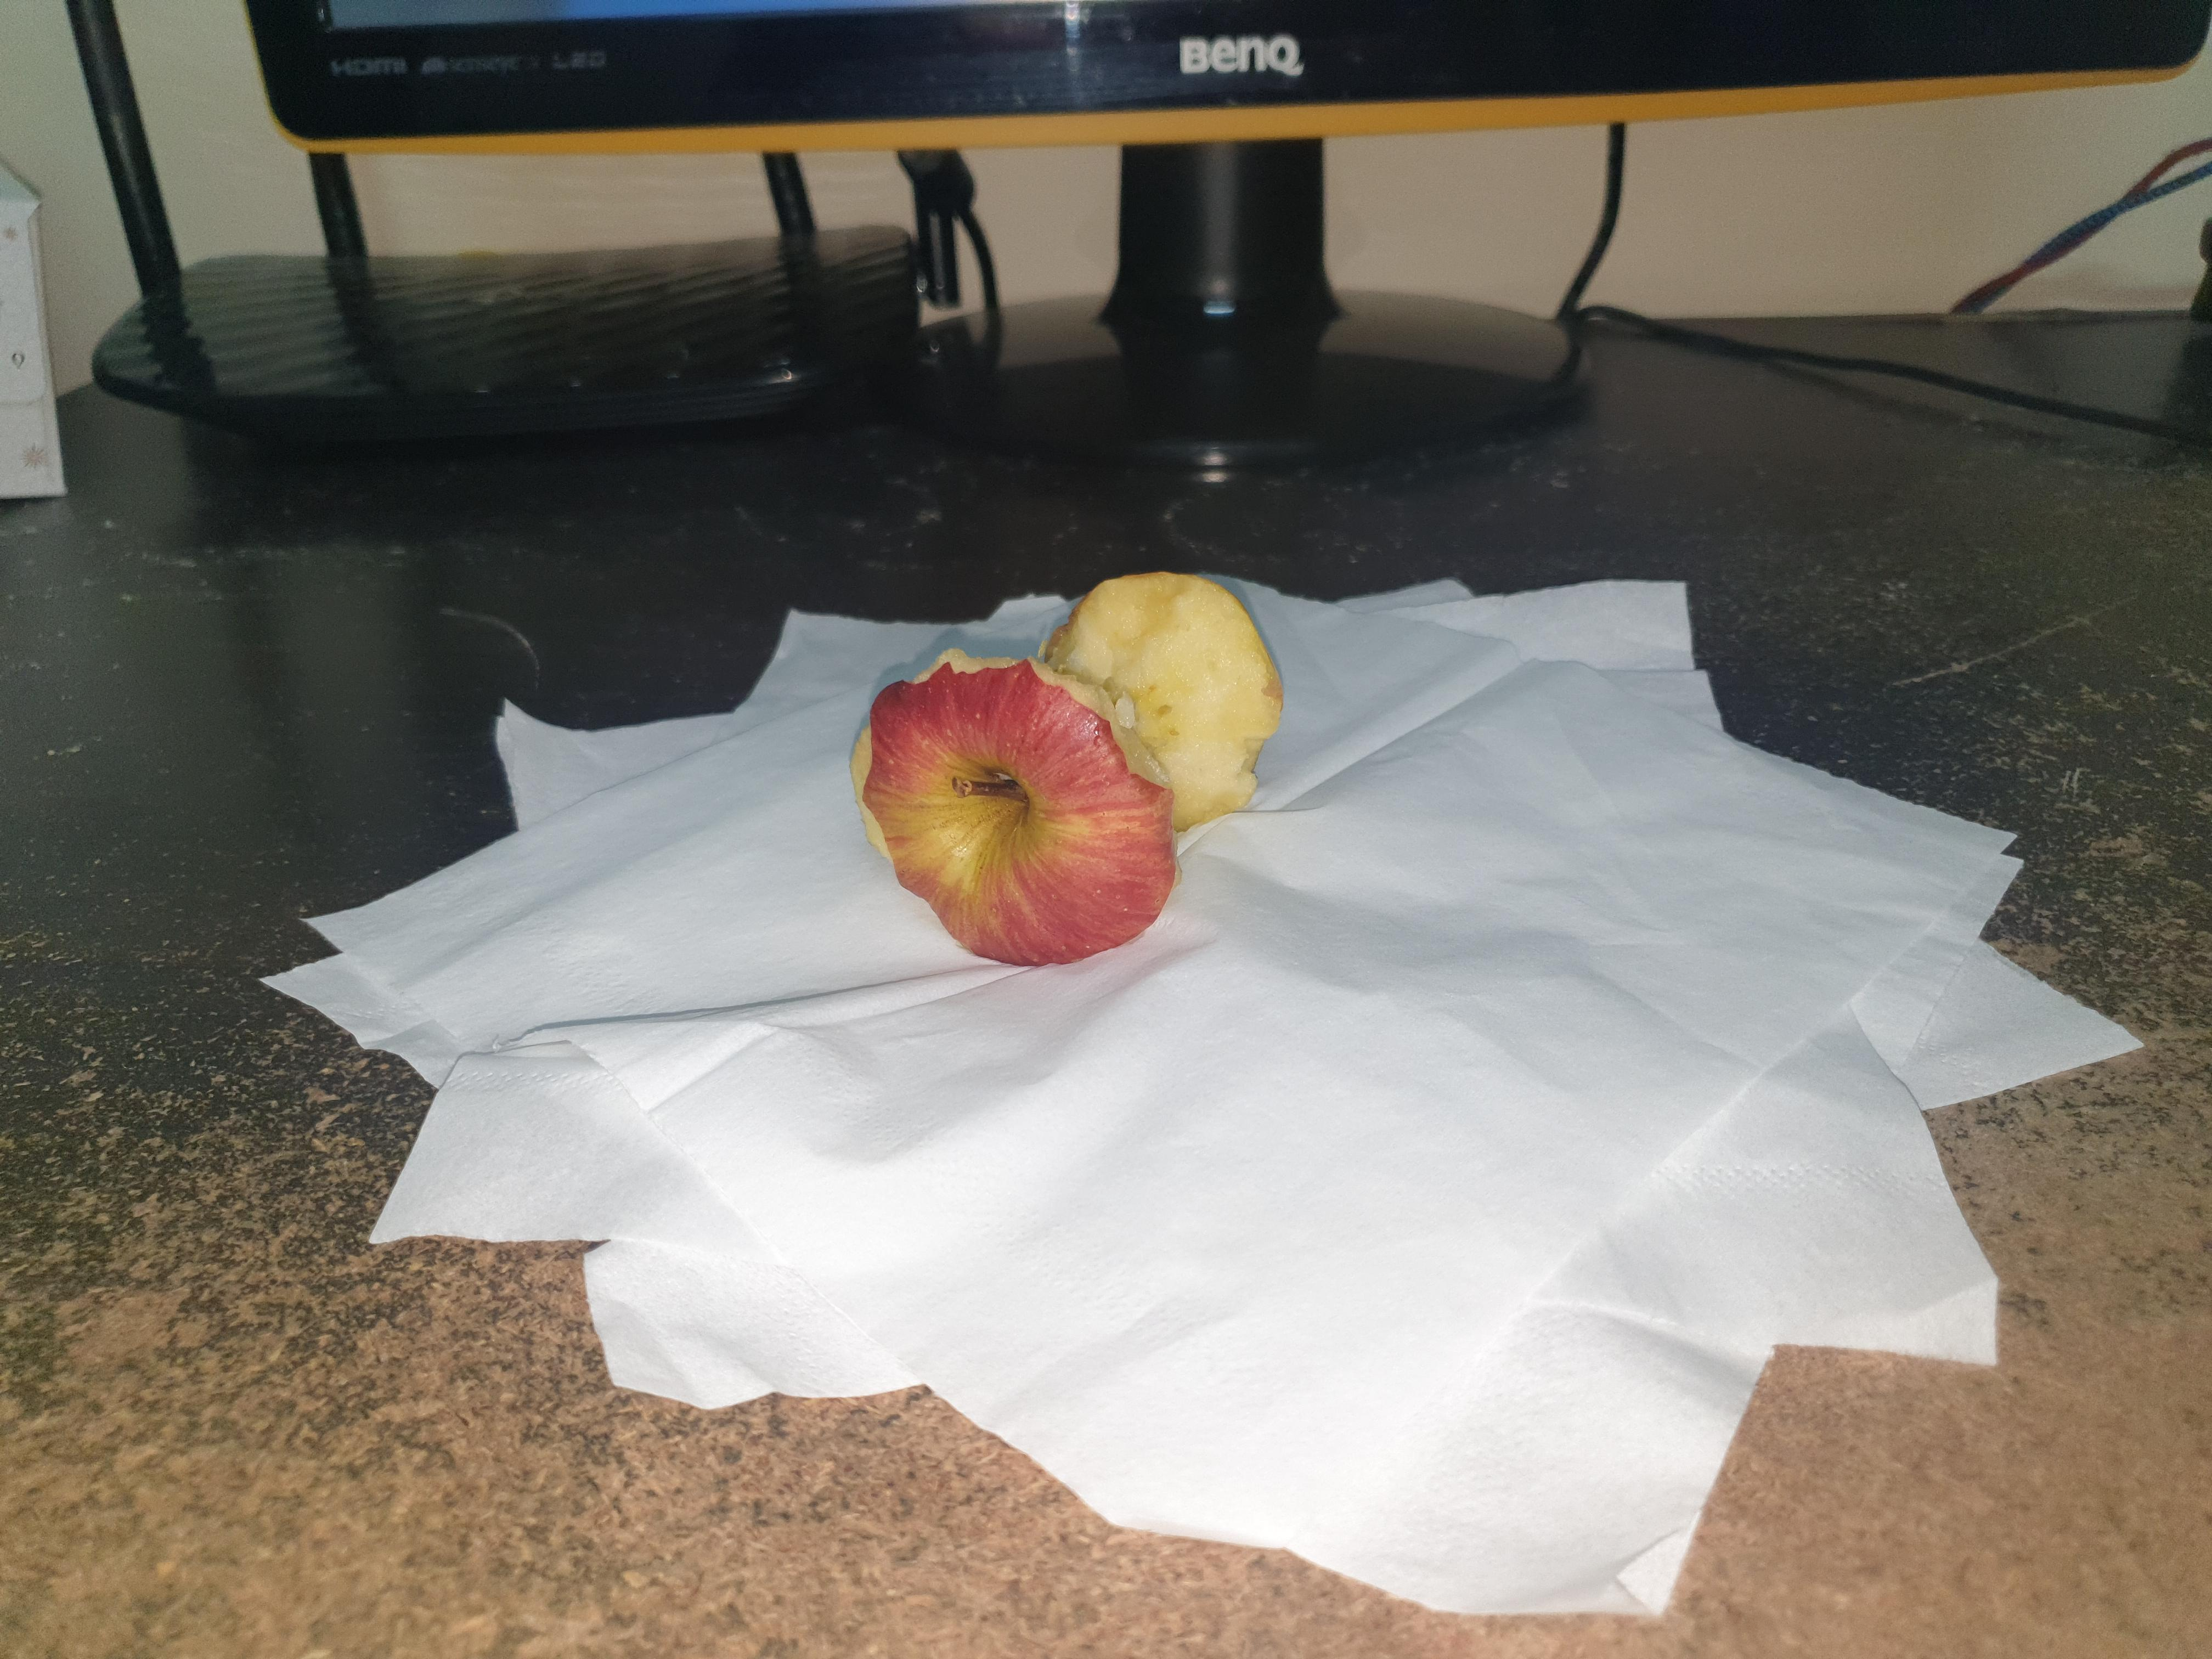Apple: (860, 552, 1282, 981)
